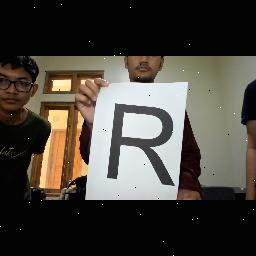r: (105, 100, 179, 192)
